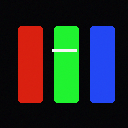3 line_h: (52, 49, 76, 51)
